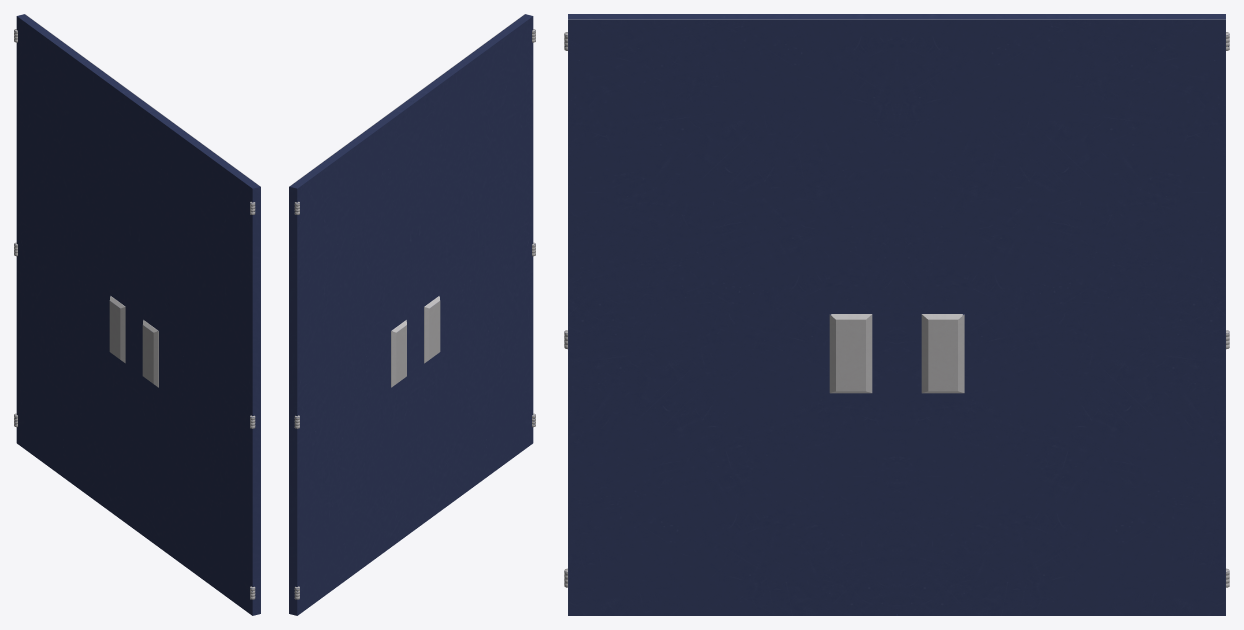
The model's file is double_industrial_doors_remodel.glb.
The picture shows the model from 3 angles, left to right: view 1: azimuth 30°, elevation 25°; view 2: azimuth 150°, elevation 25°; view 3: azimuth 270°, elevation 25°; orthographic projection. The views are drawn at different scales.
Visible parts, largest first — view 1: Cilindro.002, Cilindro.001; view 2: Cilindro.001, Cilindro.002; view 3: Cilindro.002, Cilindro.001.
Part boxes in pixels (x1=…): Cilindro.002: x1=134, y1=100, x2=260, y2=615; Cilindro.001: x1=14, y1=14, x2=142, y2=529; Cilindro.001: x1=289, y1=100, x2=415, y2=615; Cilindro.002: x1=407, y1=14, x2=535, y2=529; Cilindro.002: x1=564, y1=14, x2=896, y2=615; Cilindro.001: x1=897, y1=14, x2=1229, y2=615.
Bounding box in the file's own units: 0.0696 × 2 × 2.02.
Materials: 1 (1 with a texture image).
